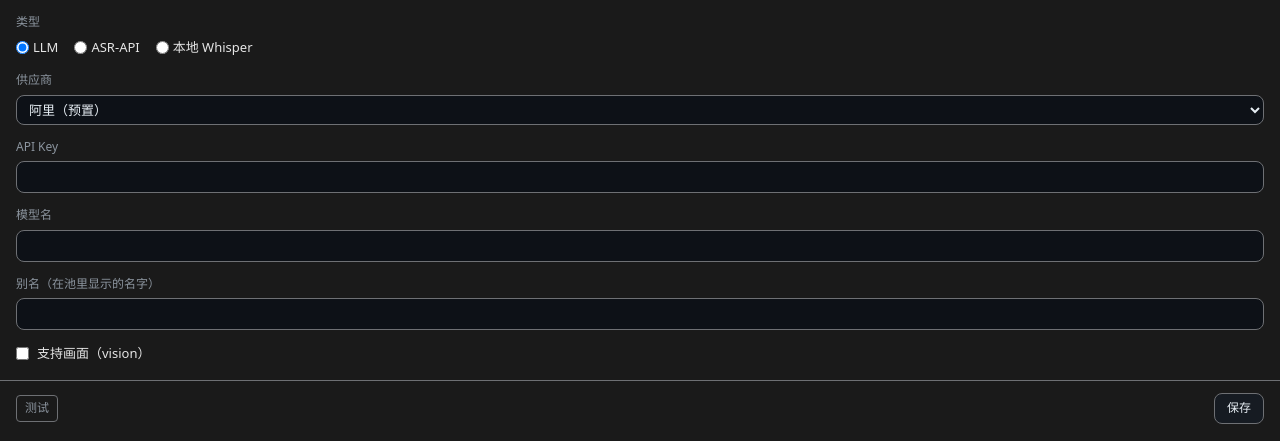
Test: AC-MM-03 / AC-MM-04 Whisper model download workflow › cancels through the dedicated command and allows a clean retry
The width and height of the screenshot is (1280, 441).
Click the radio button showing "whisper-local" at (162, 47), box [156,41,169,54]
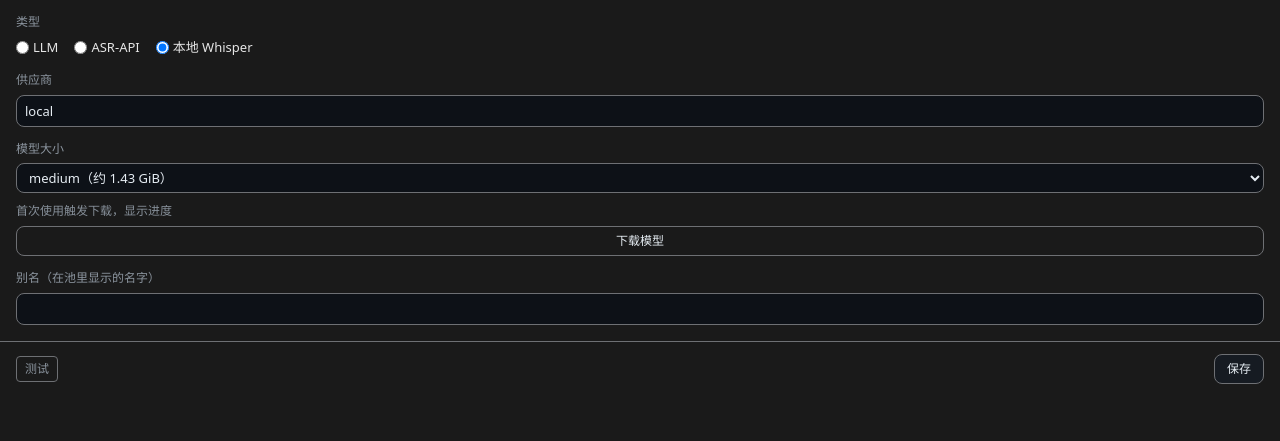
Click the button with test id "whisper-download-action" at (640, 241), box [16,226,1264,256]
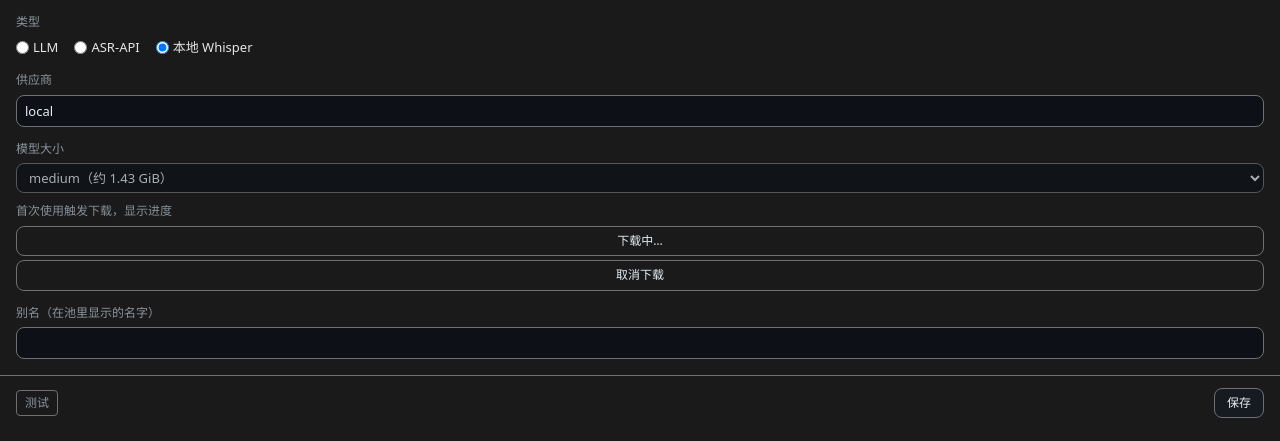
Result: the button with test id "whisper-download-cancel" is enabled
Click the button with test id "whisper-download-cancel" at (640, 275), box [16,260,1264,290]
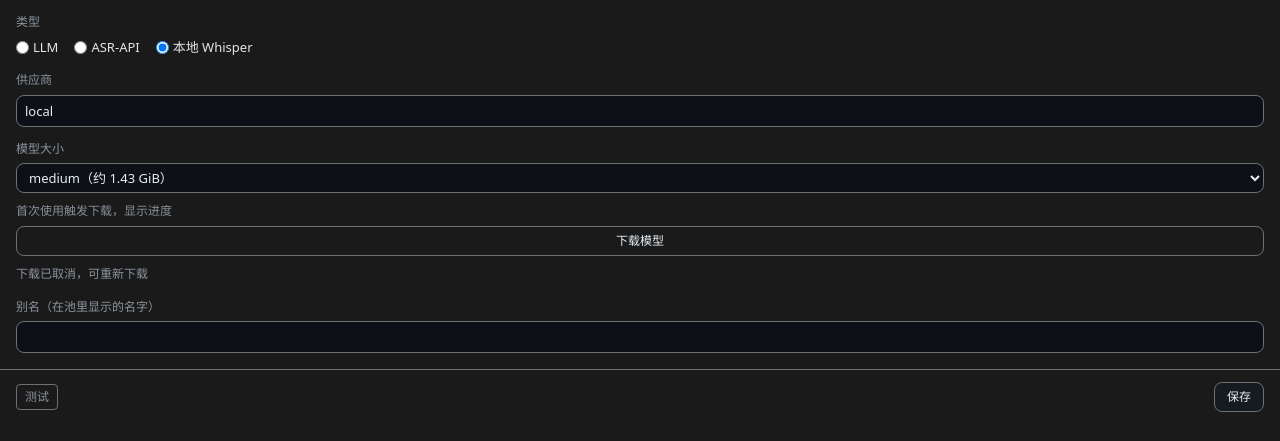
Result: the text with test id "whisper-download-status" shows "已取消" at [16,265,148,282]
Result: the button with test id "whisper-download-action" is enabled at [16,226,1264,256]
